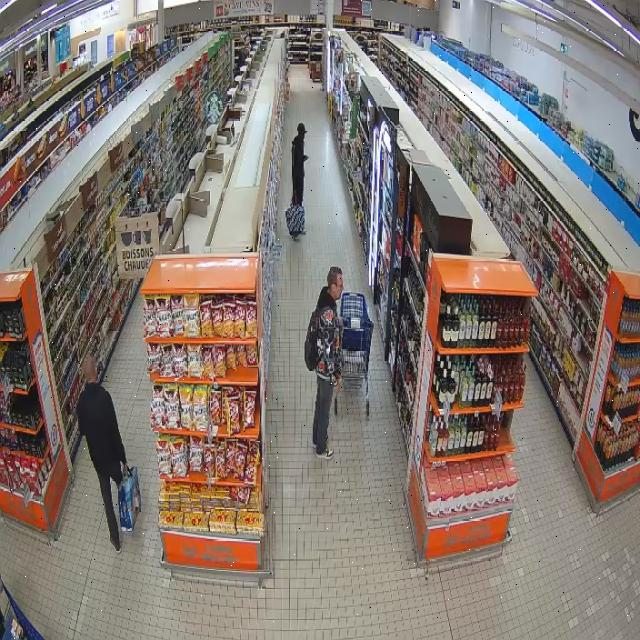bags: (119, 467, 140, 531), (305, 309, 319, 370), (286, 203, 304, 236)
hands: (332, 374, 341, 392), (336, 316, 343, 327), (121, 458, 127, 466), (303, 155, 308, 162)
person: (77, 356, 126, 553), (313, 267, 343, 458), (292, 123, 308, 205)
